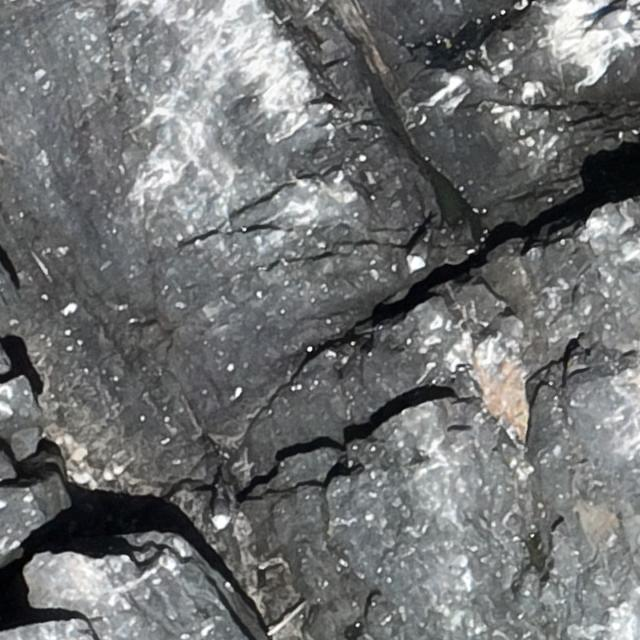umineko: (408, 235, 428, 267), (214, 494, 231, 529)
